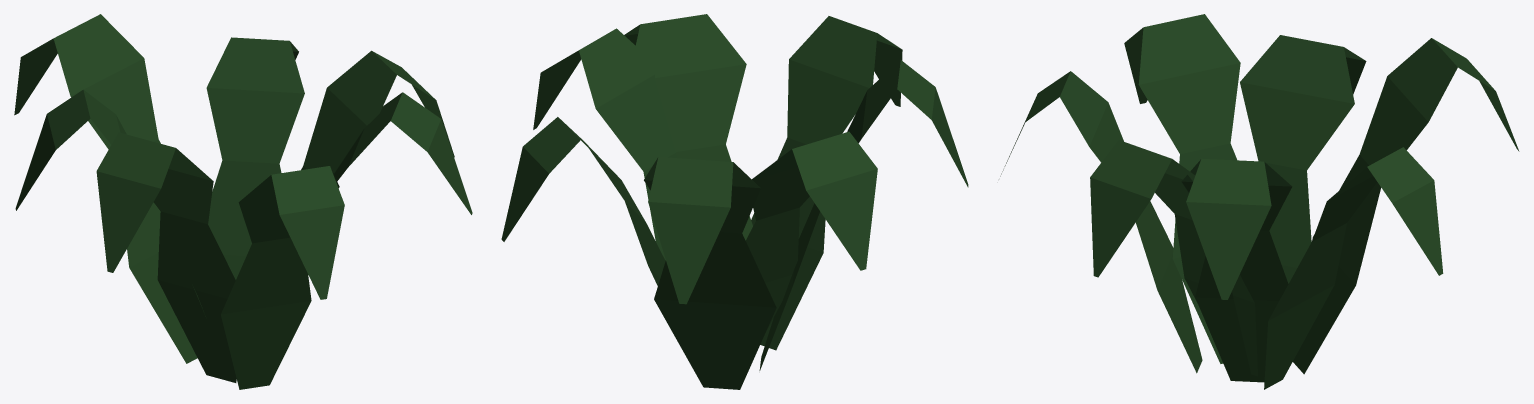
3 views of the same model, side by side, from view 1: azimuth 30°, elevation 25°; view 2: azimuth 150°, elevation 25°; view 3: azimuth 270°, elevation 25° (orthographic).
Parts seen in each view (by area): view 1: 草_02; view 2: 草_02; view 3: 草_02.
Boxes of the visible parts, x1,y1,x2,y2 form: 草_02: (14,14,472,389); 草_02: (501,14,968,389); 草_02: (1000,14,1519,389).
Bounding box in the file's own units: 1.05 × 0.7649 × 1.23.
